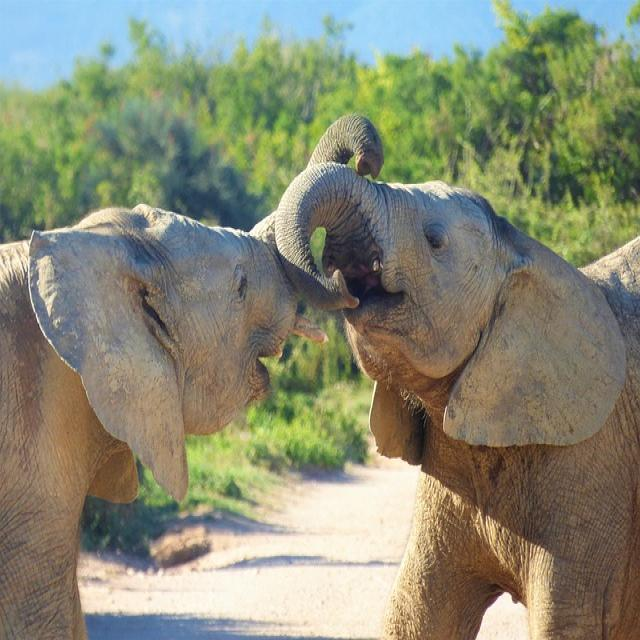FIL: (0, 120, 383, 639), (277, 158, 640, 640)
